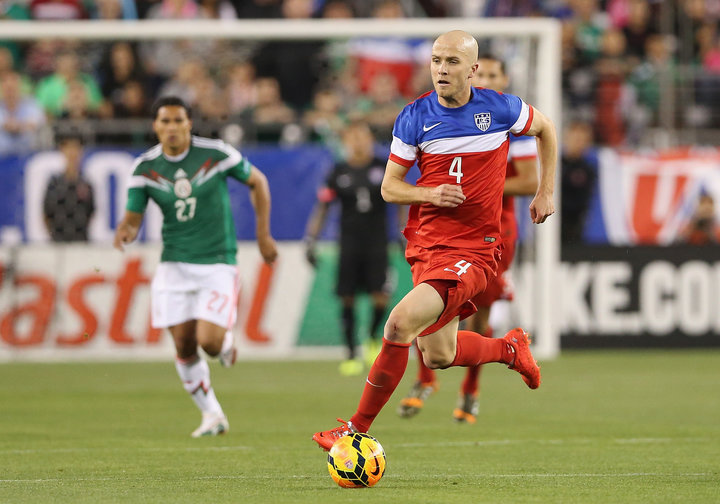soccer player: (327, 31, 541, 457), (116, 93, 284, 445), (399, 52, 541, 423)
soccerball: (326, 431, 391, 493)
